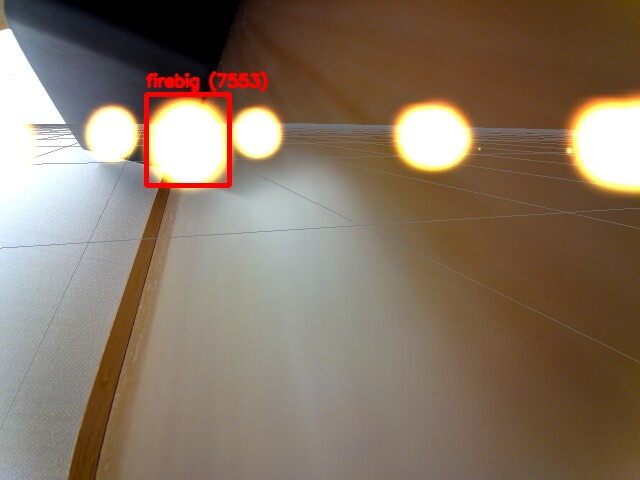firebig: (146, 94, 229, 185)
